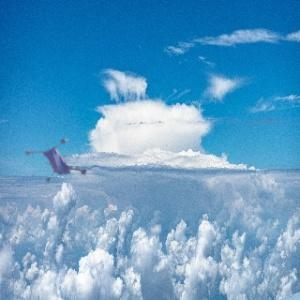drone: (32, 126, 104, 198)
